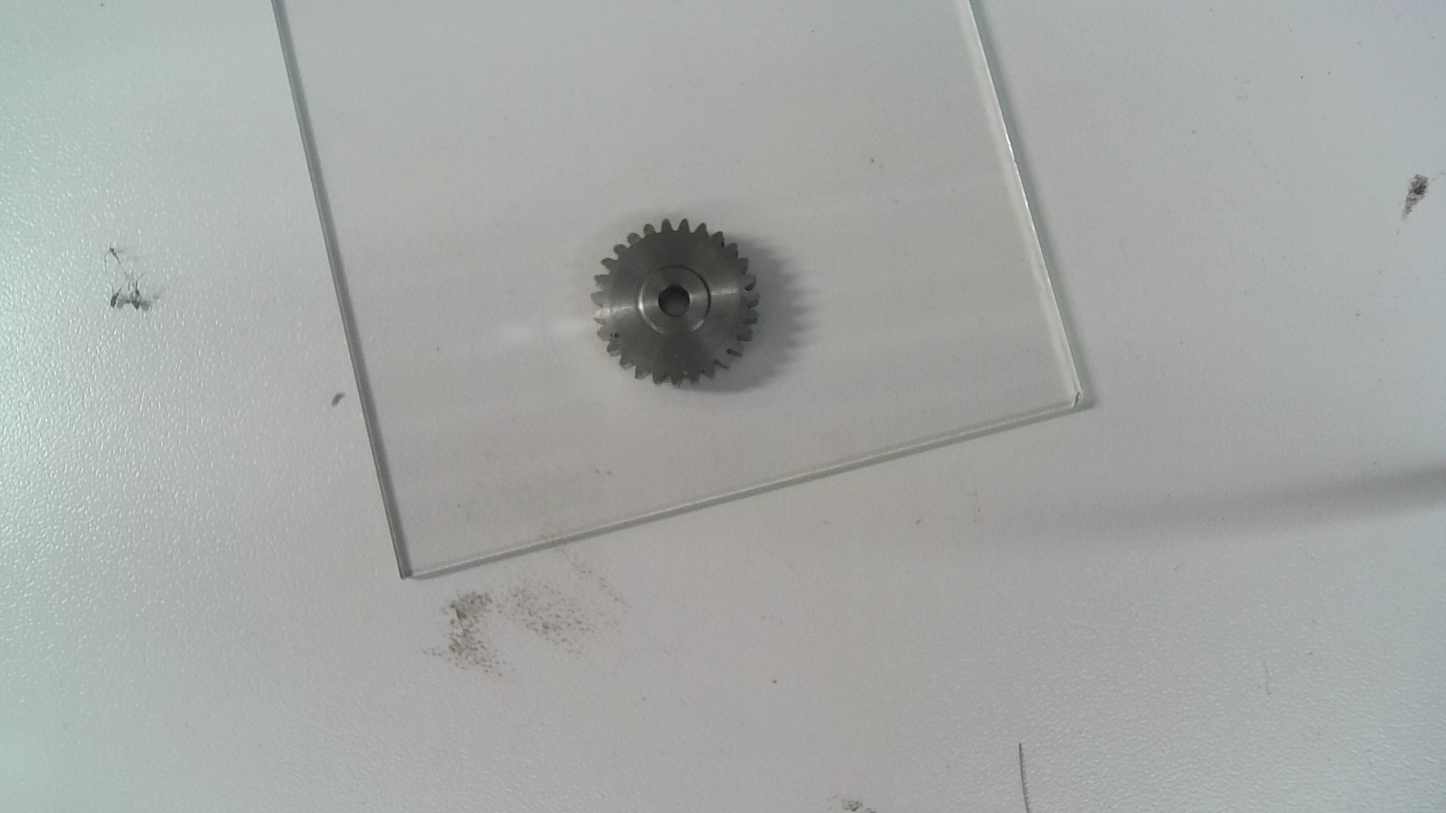gear: (590, 215, 760, 391)
